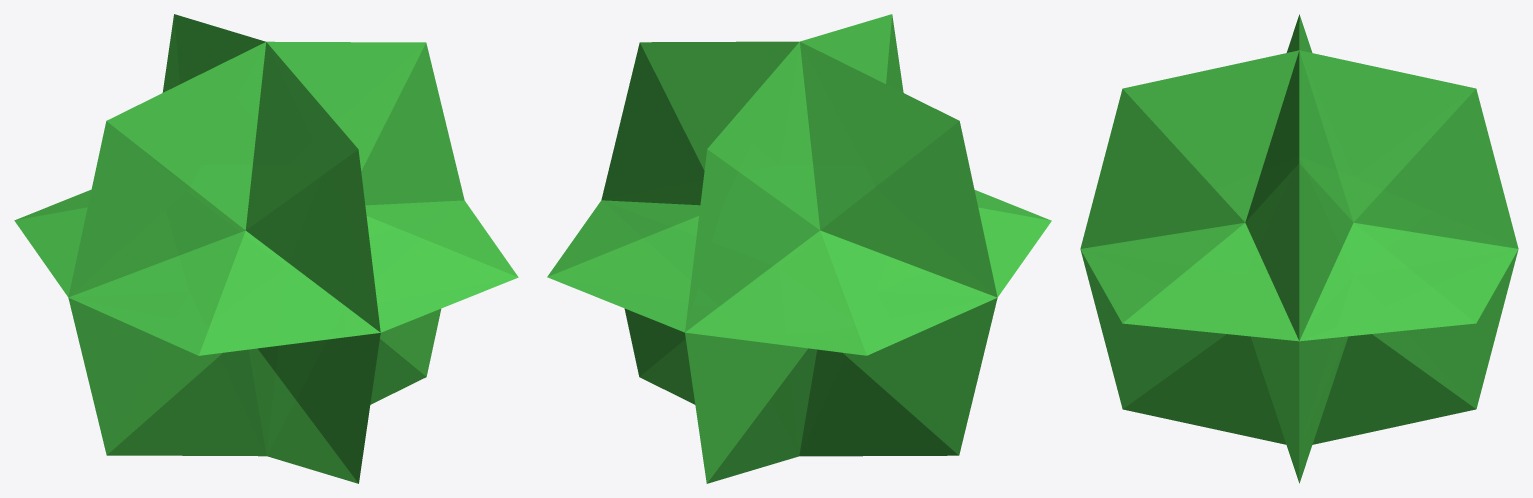
The model's file is Mobius48a.obj.
The picture shows the model from 3 angles, left to right: view 1: azimuth 30°, elevation 25°; view 2: azimuth 150°, elevation 25°; view 3: azimuth 270°, elevation 25°; orthographic projection. The views are drawn at different scales.
Bounding box in the file's own units: 2.41 × 2.41 × 2.41.
